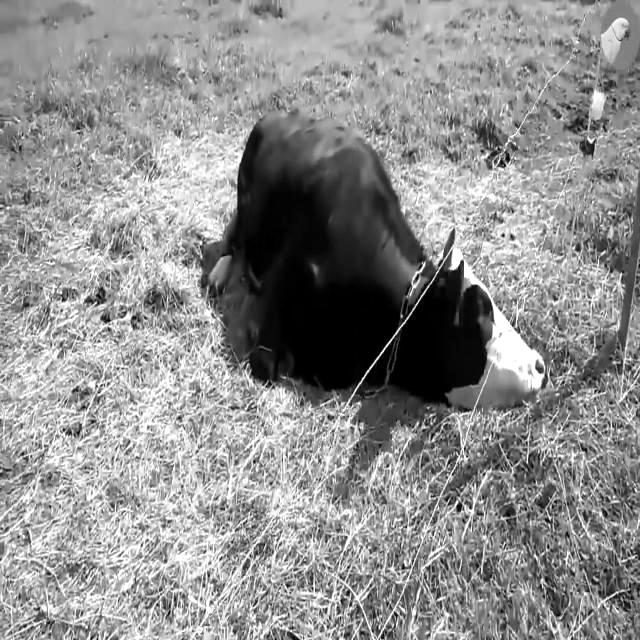COW: (202, 111, 548, 408)
